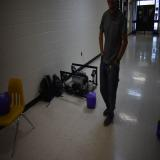cube: (1, 90, 10, 116), (86, 92, 96, 108)
